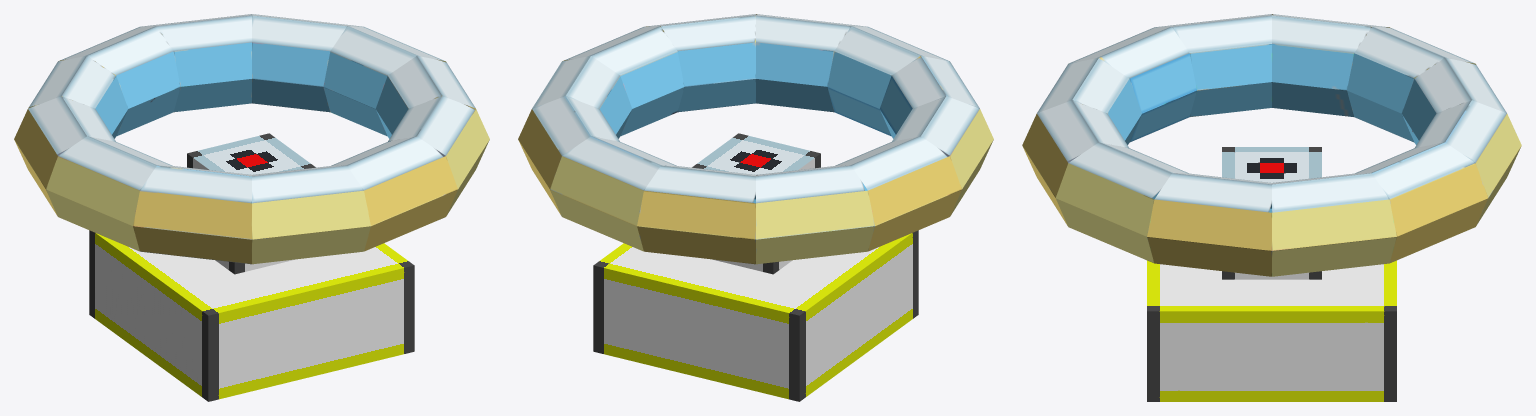
Rendered from charger.obj.
3 renders of one model, left to right at view 1: azimuth 30°, elevation 25°; view 2: azimuth 150°, elevation 25°; view 3: azimuth 270°, elevation 25°, orthographic. The views are drawn at different scales.
Visible parts, largest first — view 1: torus, cube; view 2: torus, cube; view 3: torus, cube.
Boxes of the visible parts, box(x1,y1,x2,y2) form: torus: box(14, 14, 489, 264); cube: box(89, 133, 414, 401); torus: box(518, 14, 993, 264); cube: box(593, 133, 918, 401); torus: box(1022, 14, 1521, 276); cube: box(1147, 147, 1396, 401).
Bounding box in the file's own units: 1.25 × 0.6875 × 1.25.
